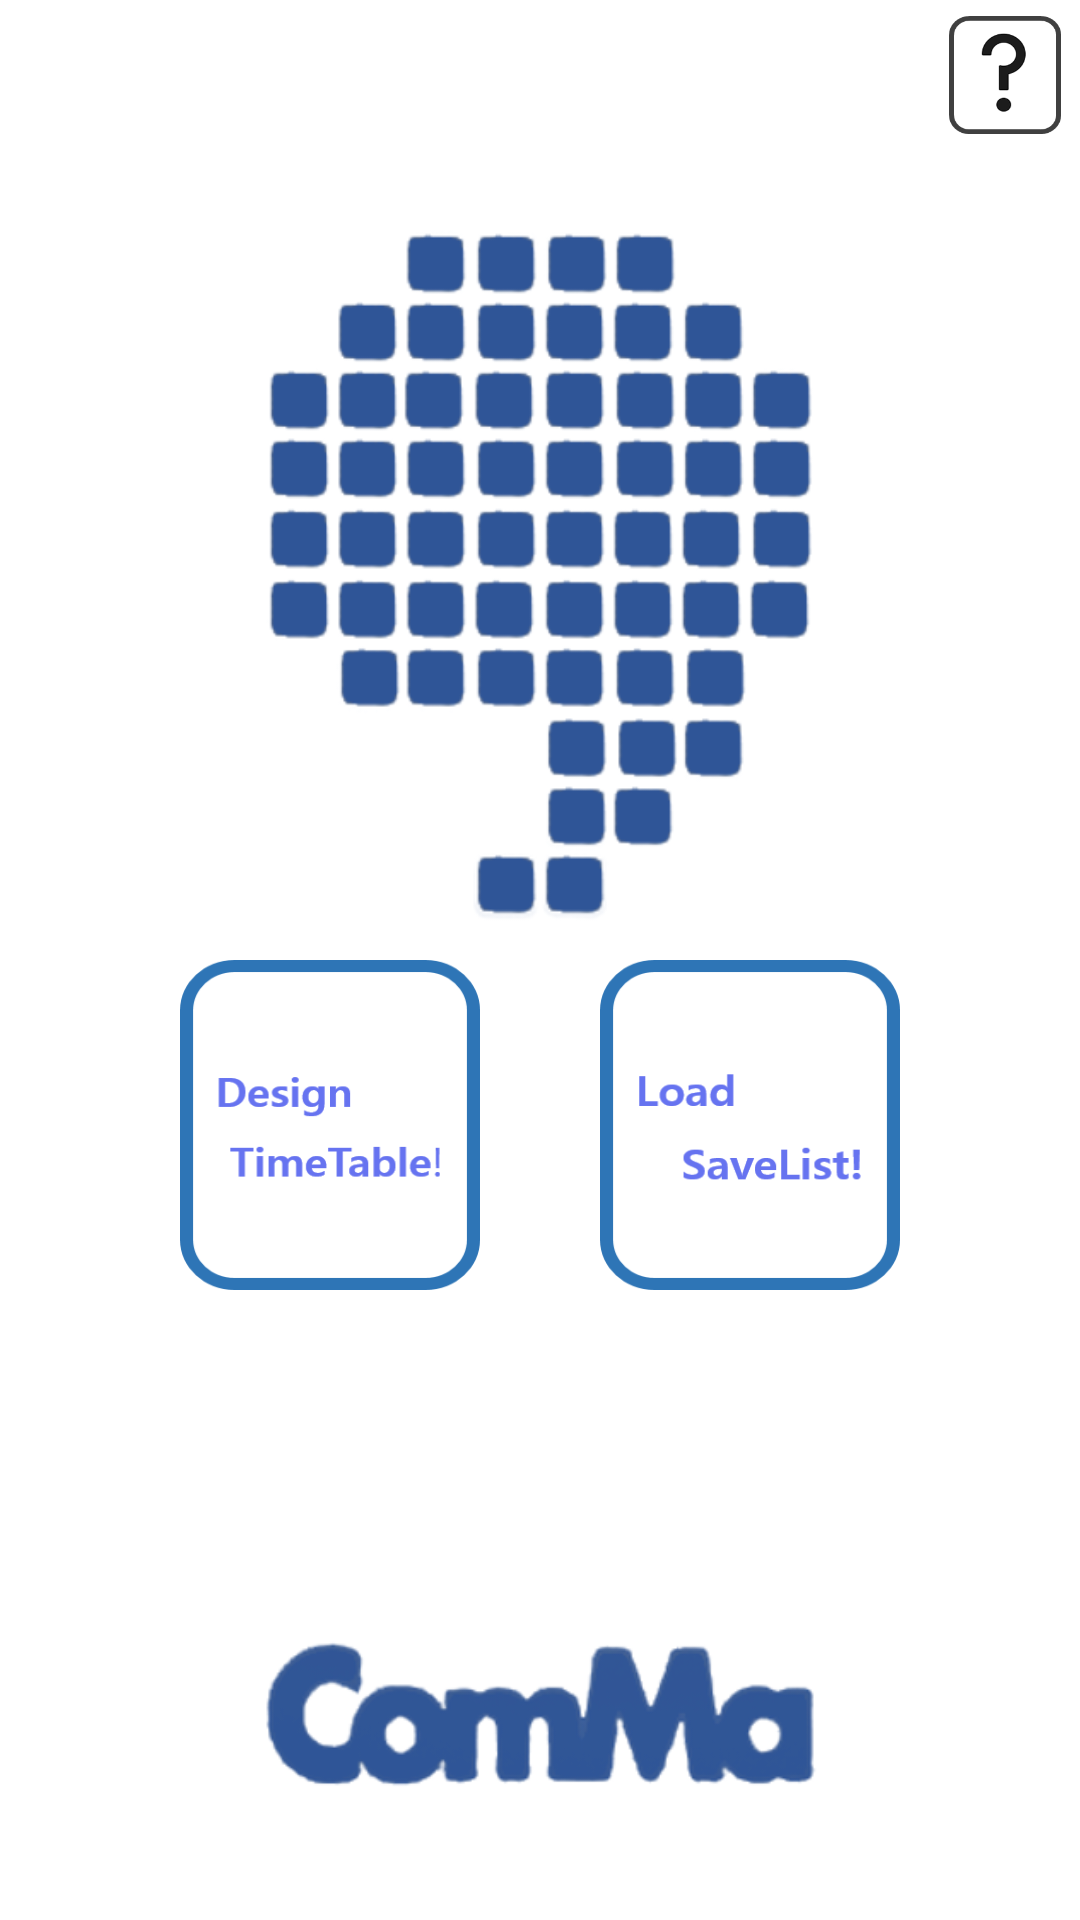

Screen size 1080 × 1920. Icon name, then its box in pixels as {"left": x1, "top": y1, "right": x2, "bottom": y2}:
question: {"left": 949, "top": 16, "right": 1061, "bottom": 134}
